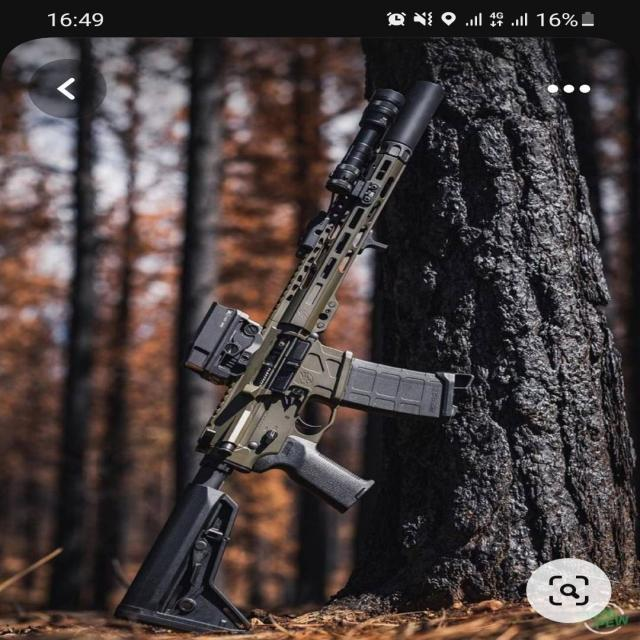m16: (71, 249, 472, 607)
